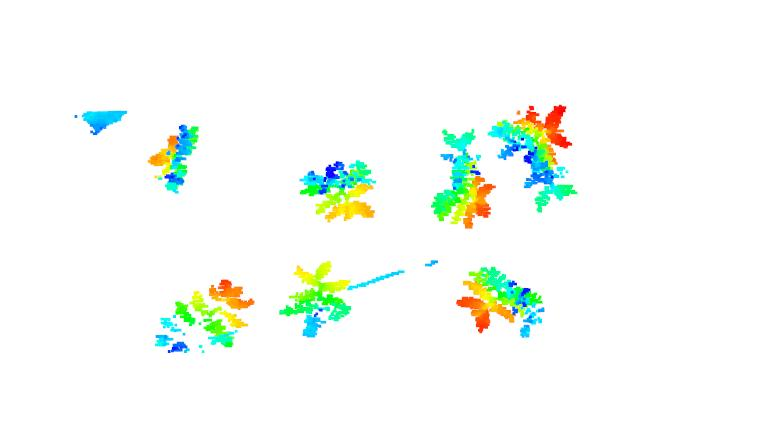chickpea: (492, 101, 577, 217), (152, 276, 254, 354), (429, 122, 493, 227), (461, 266, 545, 341), (282, 257, 353, 336), (301, 155, 381, 225), (146, 120, 202, 195)
